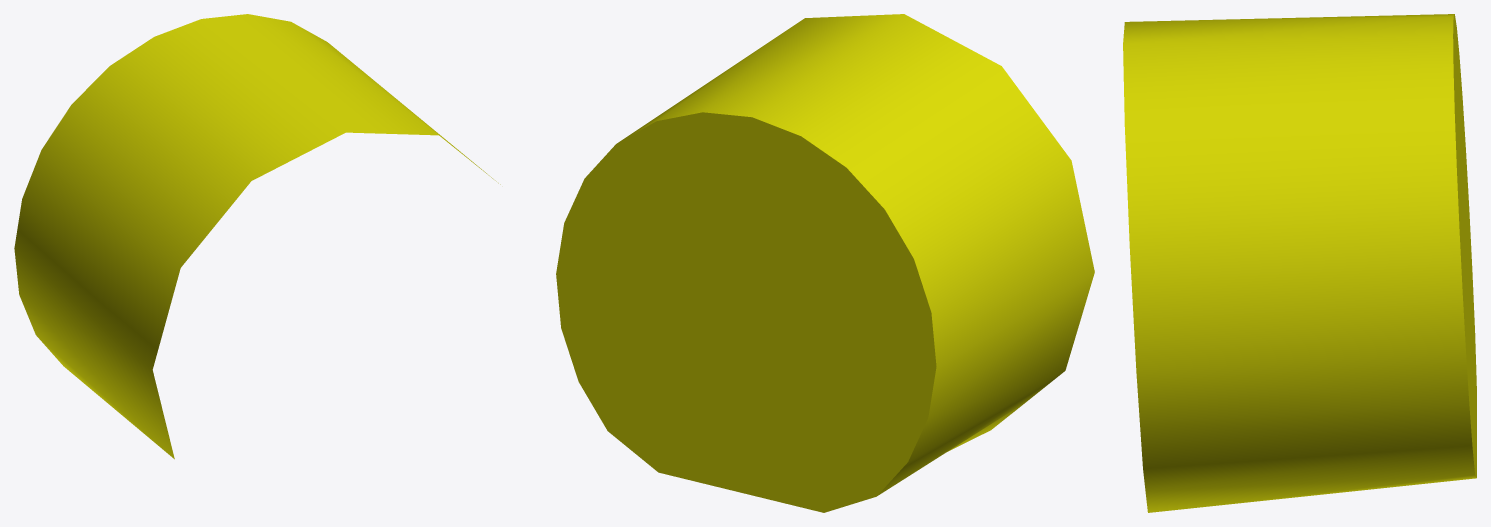
The model's file is Cap1_77.glb.
The picture shows the model from 3 angles, left to right: view 1: azimuth 30°, elevation 25°; view 2: azimuth 150°, elevation 25°; view 3: azimuth 270°, elevation 25°; orthographic projection. The views are drawn at different scales.
Bounding box in the file's own units: 15.01 × 14.27 × 10.77.
